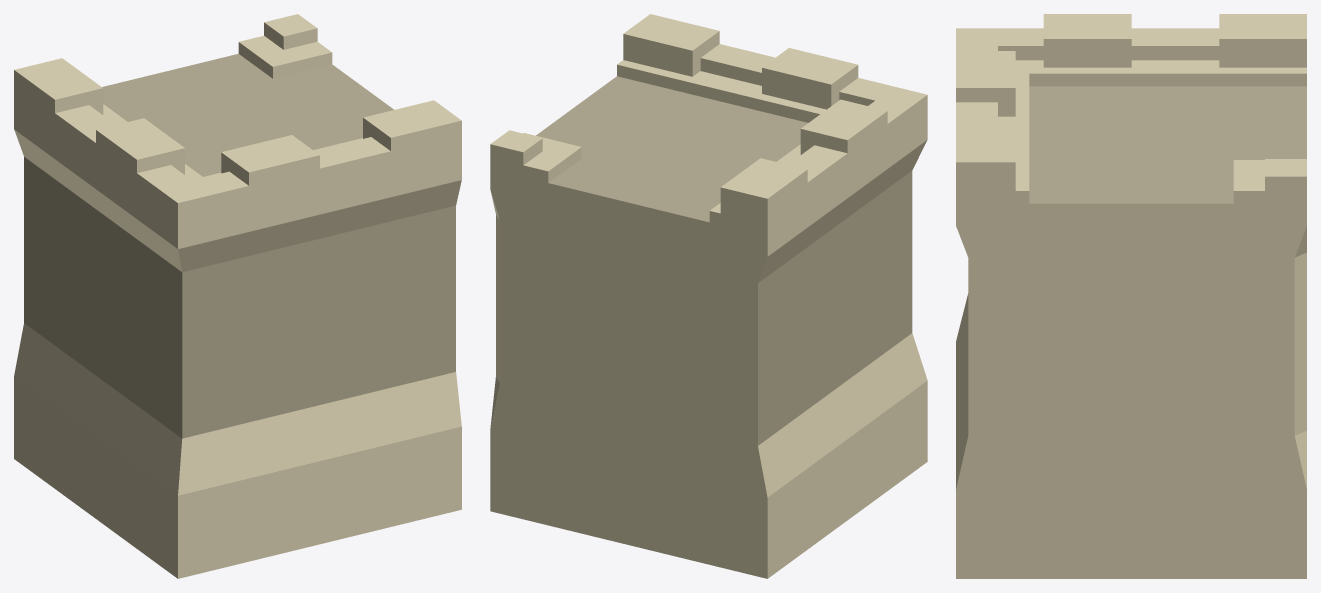
File: wallCorner.obj
3 views of the same model, side by side, from view 1: azimuth 30°, elevation 25°; view 2: azimuth 150°, elevation 25°; view 3: azimuth 270°, elevation 25° (orthographic). The views are drawn at different scales.
Parts seen in each view (by area): view 1: wallCorner; view 2: wallCorner; view 3: wallCorner.
Part boxes in pixels (<box>): wallCorner: <box>14,14,461,578</box>; wallCorner: <box>490,14,927,578</box>; wallCorner: <box>956,14,1306,578</box>.
Bounding box in the file's own units: 10 × 13.1 × 10.
